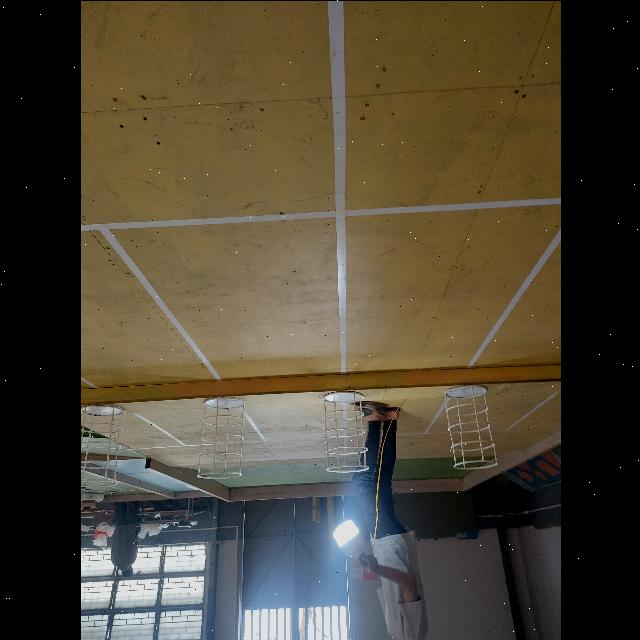S: (440, 380, 498, 470), (320, 390, 368, 472), (198, 396, 246, 478), (80, 400, 121, 486)
